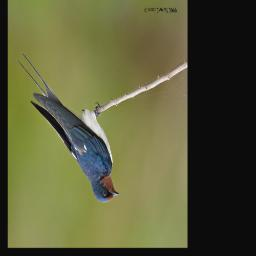Swallow: (17, 52, 120, 203)
